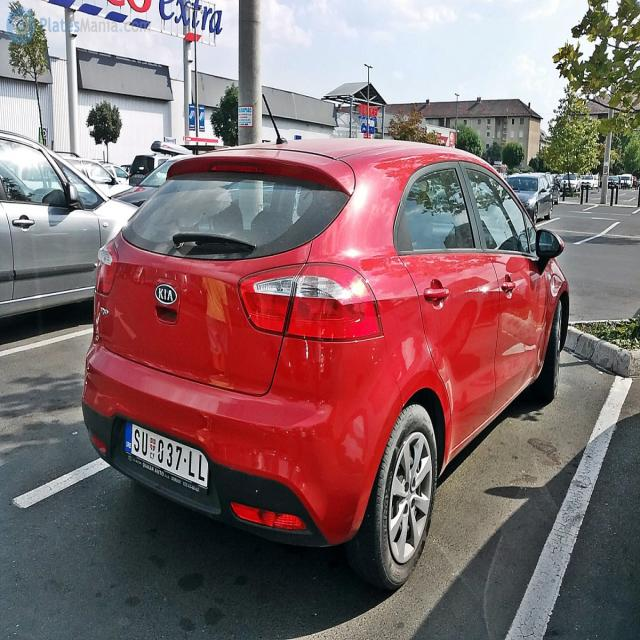License-plate: (122, 421, 209, 502)
